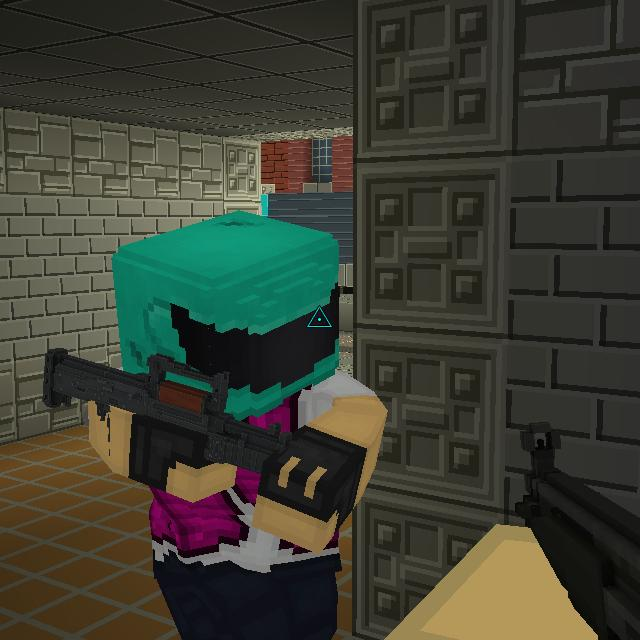enemy: (65, 207, 389, 640)
